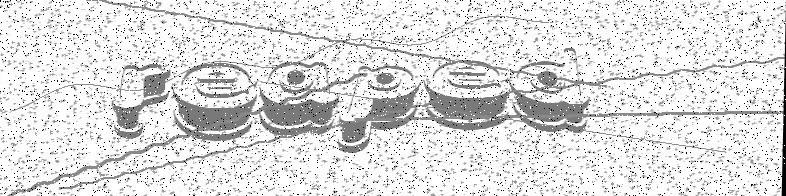a: (260, 63, 340, 135)
d: (511, 48, 592, 132)
e: (174, 62, 258, 139), (425, 60, 513, 128)
p: (340, 66, 418, 152)
r: (112, 64, 171, 138)
